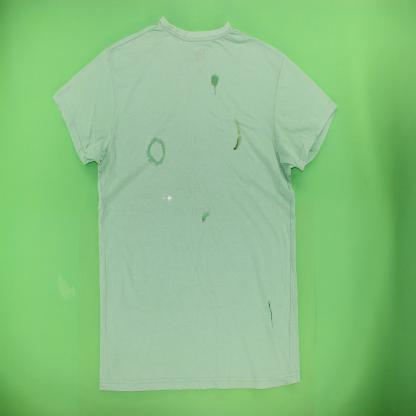hole: (265, 297, 277, 332)
stain: (145, 133, 168, 169), (230, 114, 243, 154), (209, 72, 222, 98), (162, 191, 174, 206), (201, 210, 211, 225)
